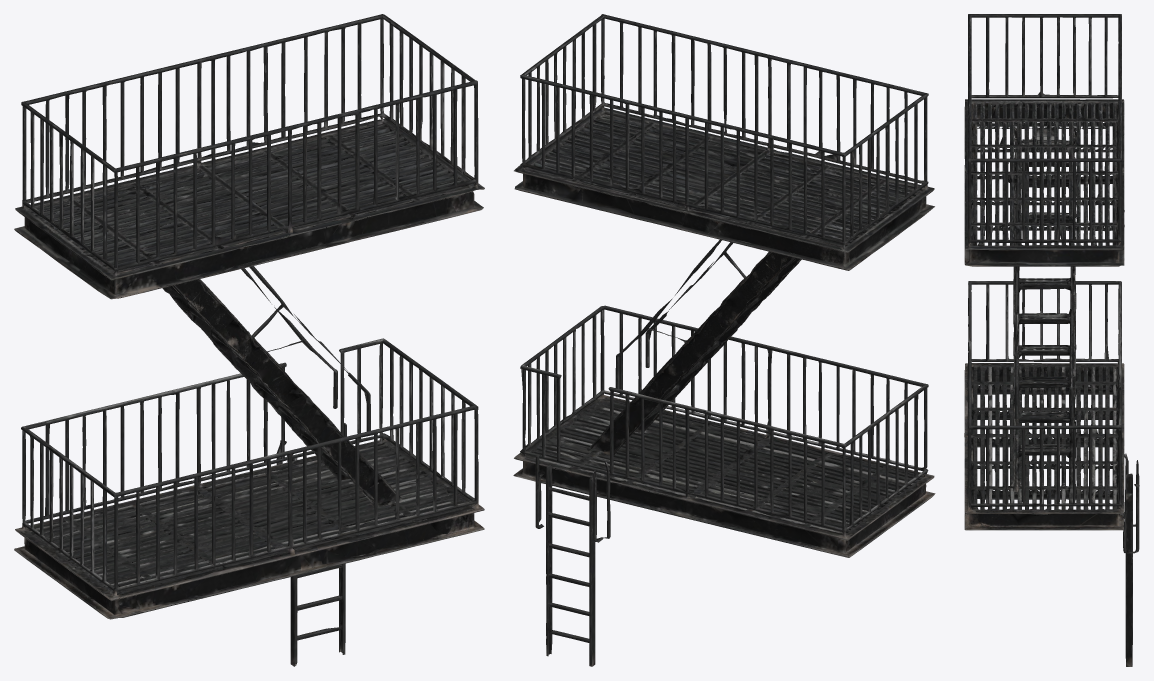
Rendered from escalier.glb.
3 renders of one model, left to right at view 1: azimuth 30°, elevation 25°; view 2: azimuth 150°, elevation 25°; view 3: azimuth 270°, elevation 25°, orthographic. The views are drawn at different scales.
Bounding box in the file's own units: 1.18 × 1.9 × 0.5777.
Materials: 1 (1 with a texture image).
